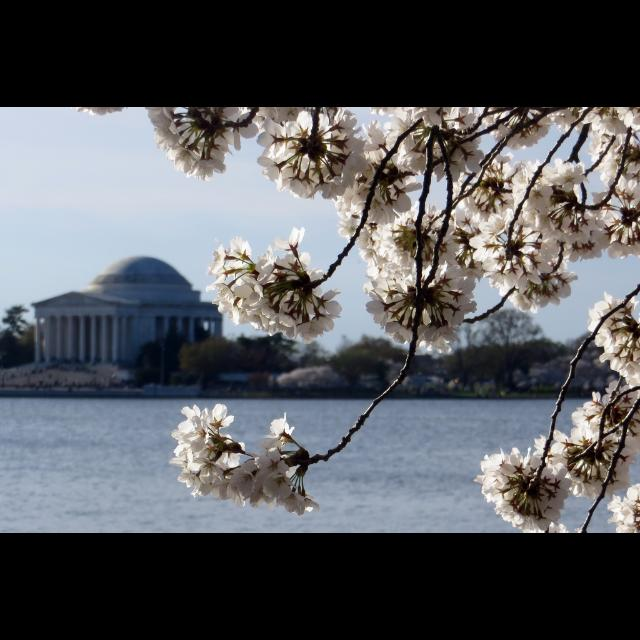Flower: (72, 108, 640, 352), (172, 392, 306, 518), (476, 445, 572, 533), (540, 420, 630, 510), (572, 379, 640, 455), (585, 293, 639, 387), (603, 483, 639, 533), (539, 519, 587, 533)
